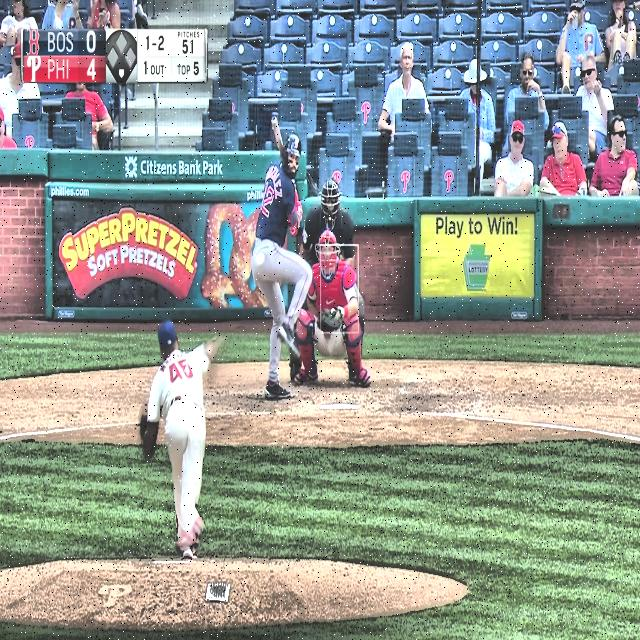baseball: (255, 252, 264, 267)
